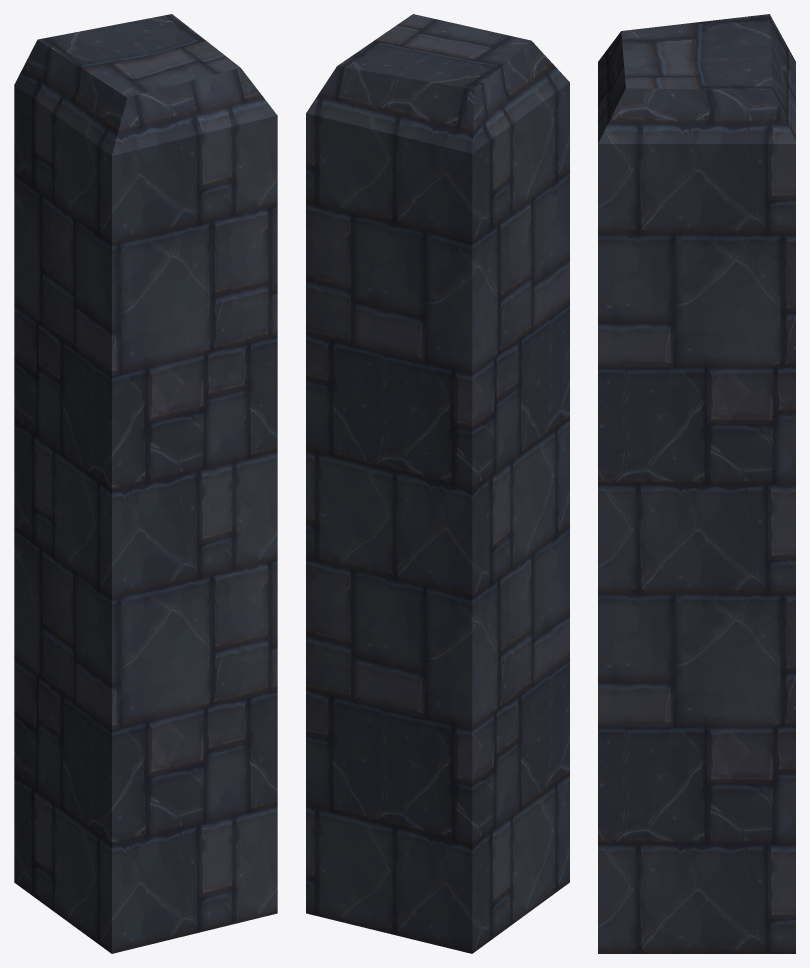
File: Ruins_Pillar_001.fbx
3 renders of one model, left to right at view 1: azimuth 30°, elevation 25°; view 2: azimuth 150°, elevation 25°; view 3: azimuth 270°, elevation 25°, orthographic.
Visible parts, largest first — view 1: Ruins_Pillar_001; view 2: Ruins_Pillar_001; view 3: Ruins_Pillar_001.
Part boxes in pixels (x1,y1,x2,y2): Ruins_Pillar_001: (14,14,277,953); Ruins_Pillar_001: (306,14,569,953); Ruins_Pillar_001: (598,14,795,953).
Bounding box in the file's own units: 1 × 4.9 × 1.02.
1 material, 1 textured.
